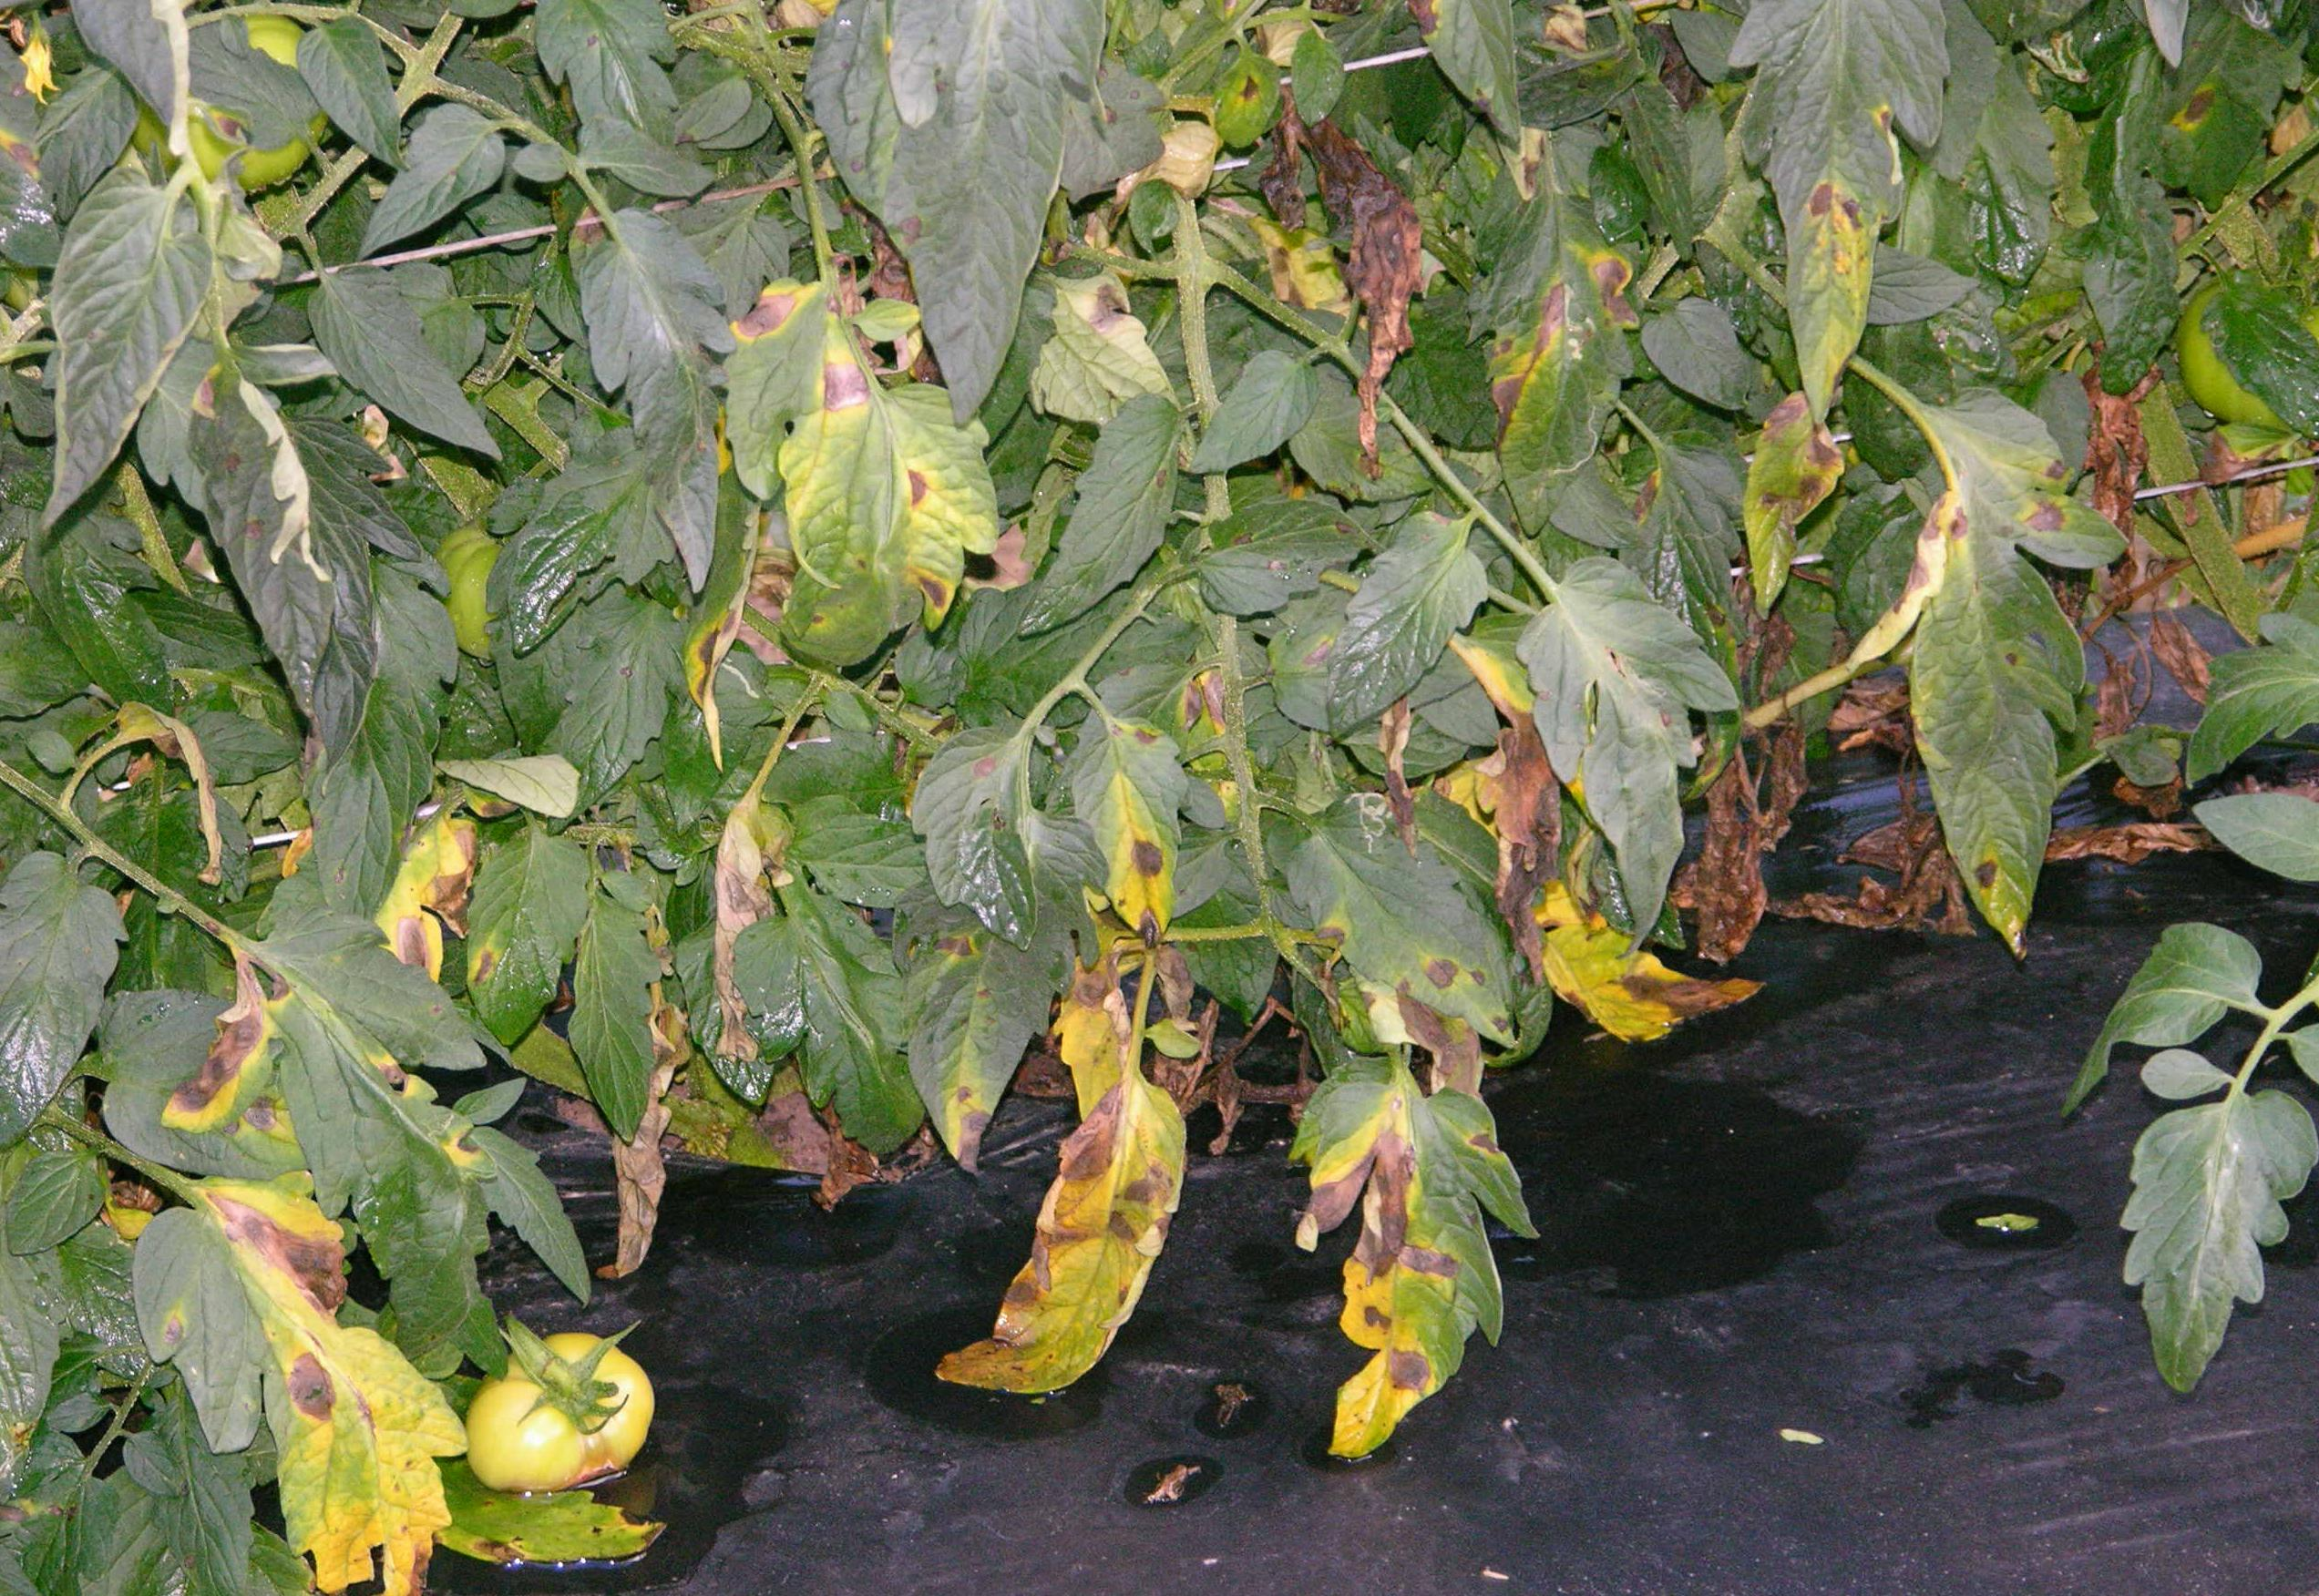Tomato Early blight leaf: (1887, 338, 2115, 964), (122, 1149, 435, 1596), (934, 1025, 1218, 1492), (1693, 0, 1961, 414), (1283, 1062, 1505, 1492), (1454, 137, 1628, 536), (763, 396, 1001, 650), (444, 817, 611, 1087), (1064, 687, 1179, 948), (1151, 0, 1366, 134), (1727, 388, 1861, 595)
Tomato leaf: (2095, 1076, 2317, 1390), (44, 169, 199, 516), (1013, 398, 1204, 647), (611, 217, 726, 613), (1315, 504, 1491, 749), (0, 854, 125, 1154), (330, 275, 497, 456), (340, 118, 515, 268)
